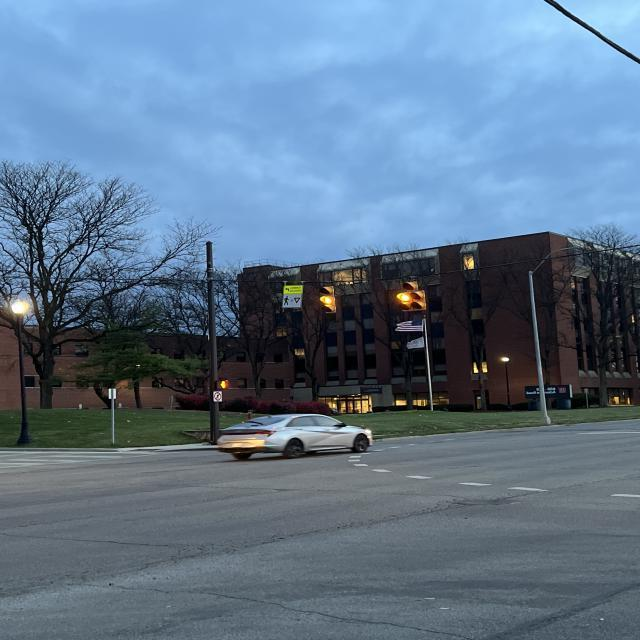yellow_light: (395, 279, 431, 315), (318, 282, 341, 316), (214, 378, 232, 392)
